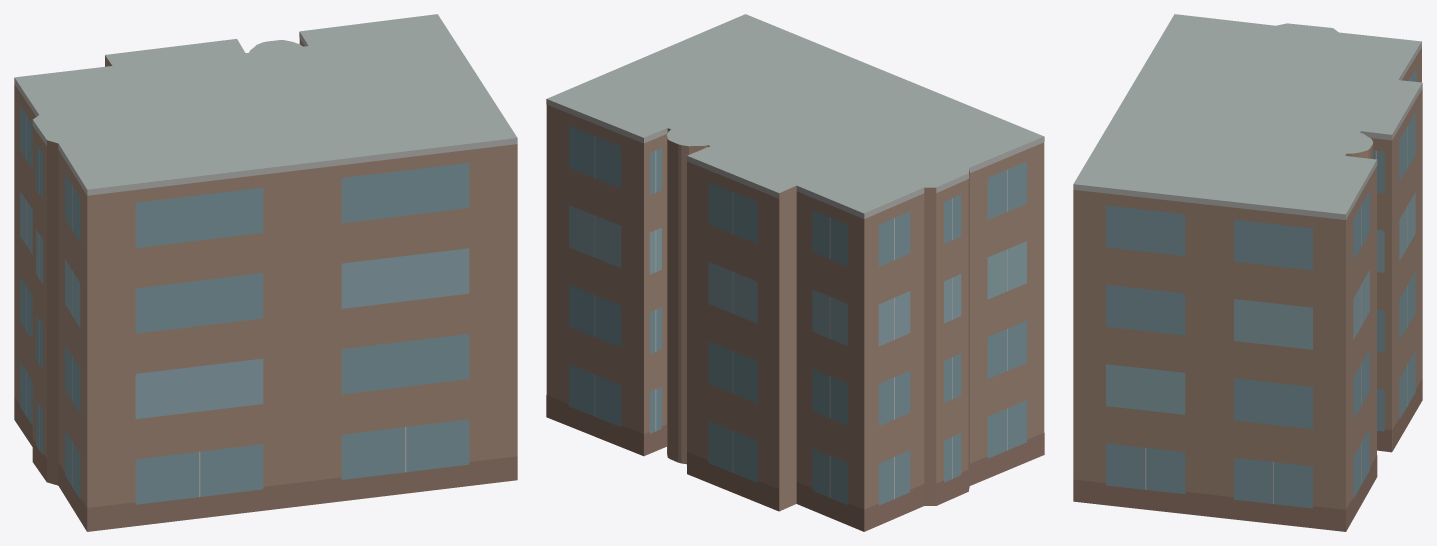
The model's file is survey-upis-32875365.glb.
The picture shows the model from 3 angles, left to right: view 1: azimuth 30°, elevation 25°; view 2: azimuth 150°, elevation 25°; view 3: azimuth 270°, elevation 25°; orthographic projection. The views are drawn at different scales.
Parts seen in each view (by area): view 1: survey-upis-32875365.tmp; view 2: survey-upis-32875365.tmp; view 3: survey-upis-32875365.tmp.
Part boxes in pixels (<box>): survey-upis-32875365.tmp: <box>14,14,517,531</box>; survey-upis-32875365.tmp: <box>546,14,1044,531</box>; survey-upis-32875365.tmp: <box>1073,14,1422,531</box>.
Bounding box in the file's own units: 18.7 × 13.8 × 13.78.
